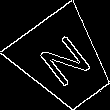N_SE: (32, 29, 96, 94)
